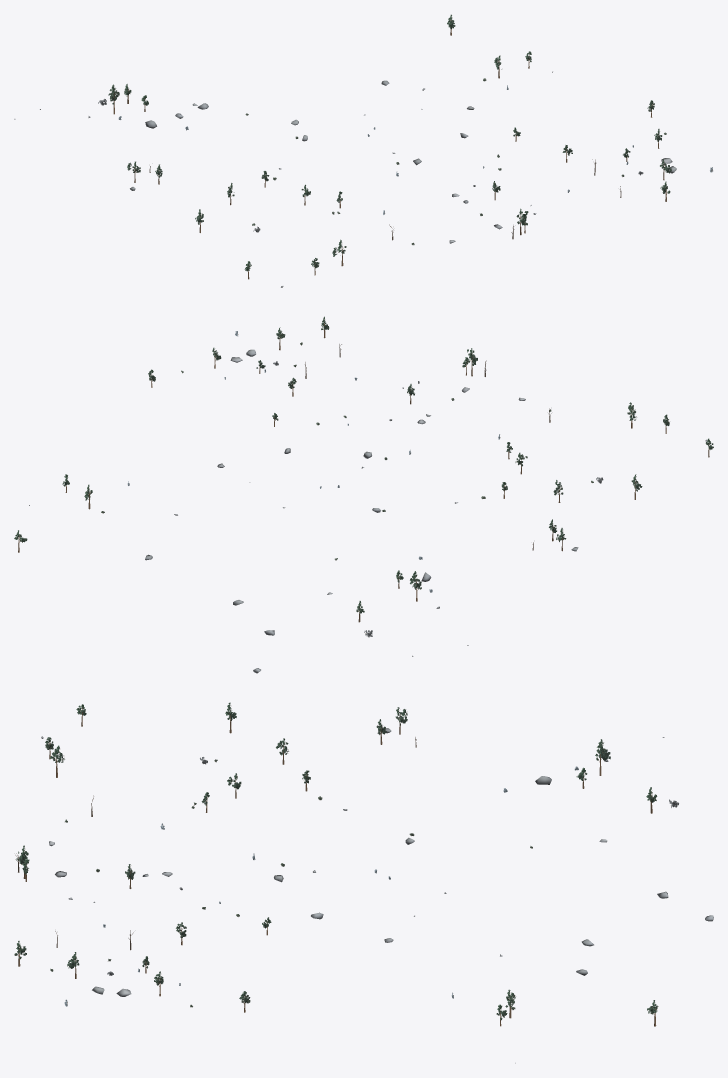
The model's file is frost_land_scatter_c15_09.glb.
3 renders of one model, top to bottom at view 1: azimuth 30°, elevation 25°; view 2: azimuth 150°, elevation 25°; view 3: azimuth 270°, elevation 25°, orthographic. The views are drawn at different scales.
Parts seen in each view (by area): view 1: frost_land_scatter_c15_09; view 2: frost_land_scatter_c15_09; view 3: frost_land_scatter_c15_09.
Part boxes in pixels (<box>): frost_land_scatter_c15_09: <box>14,14,712,287</box>; frost_land_scatter_c15_09: <box>14,316,713,673</box>; frost_land_scatter_c15_09: <box>14,702,713,1063</box>.
Bounding box in the file's own units: 254 × 46.83 × 255.
